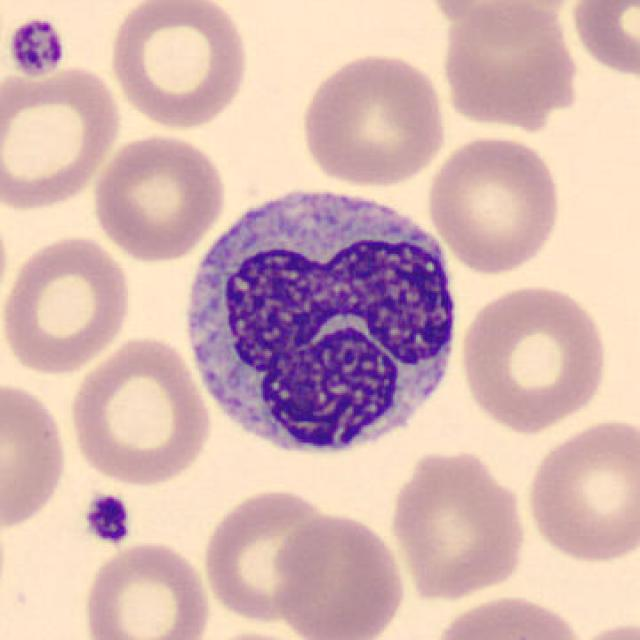Monocyte: (174, 173, 464, 472)
Platelets: (3, 16, 68, 81), (80, 490, 133, 548)
RBC: (455, 280, 613, 434), (386, 444, 532, 603), (64, 334, 213, 488), (297, 49, 450, 189), (423, 132, 565, 277), (0, 231, 137, 377), (199, 485, 340, 626), (437, 0, 585, 132), (105, 0, 252, 132), (0, 62, 126, 213), (89, 130, 229, 262), (270, 509, 408, 640), (521, 414, 638, 566), (78, 537, 213, 640), (0, 378, 71, 534), (428, 590, 588, 640), (423, 0, 581, 39), (567, 0, 640, 81), (564, 617, 638, 640), (193, 627, 318, 640)
